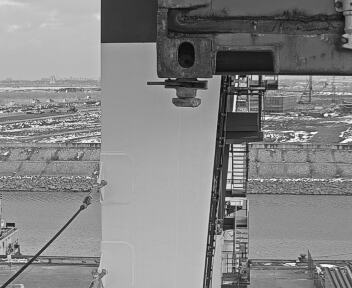twist_lock_1: (154, 70, 216, 121)
